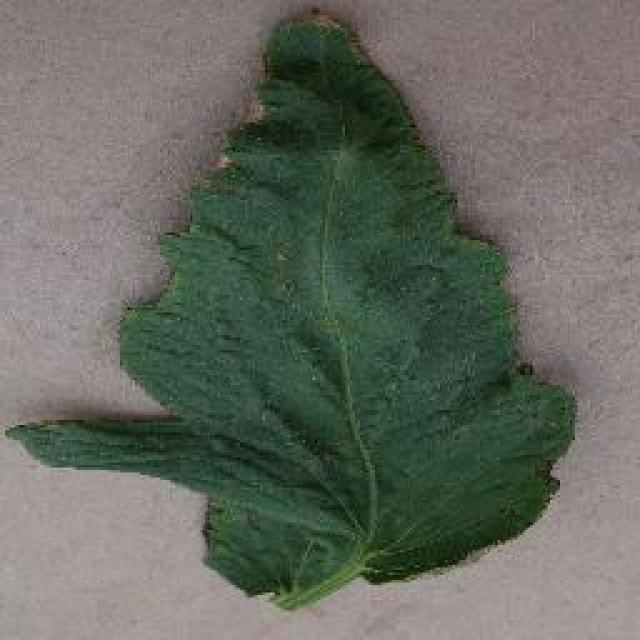bacterial spot: (12, 10, 580, 615)
